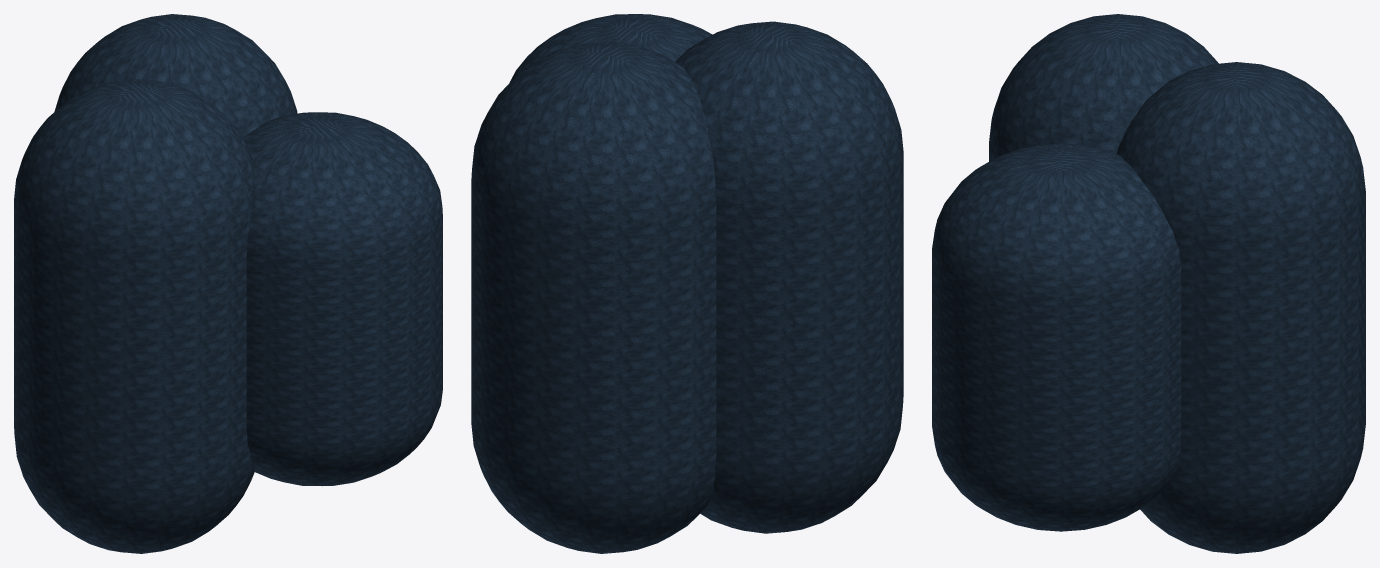
3 views of the same model, side by side, from view 1: azimuth 30°, elevation 25°; view 2: azimuth 150°, elevation 25°; view 3: azimuth 270°, elevation 25° (orthographic). The views are drawn at different scales.
Parts seen in each view (by area): view 1: NPC2 (2), NPC2 (1), object; view 2: object, NPC2 (2), NPC2 (1); view 3: object, NPC2 (1), NPC2 (2).
Boxes of the visible parts, x1,y1,x2,y2 form: NPC2 (2): (14, 79, 254, 553); NPC2 (1): (243, 112, 442, 486); object: (54, 14, 297, 137); object: (471, 41, 716, 553); NPC2 (2): (675, 21, 903, 533); NPC2 (1): (509, 14, 712, 82); object: (1117, 62, 1365, 553); NPC2 (1): (932, 143, 1181, 531); NPC2 (2): (989, 14, 1218, 161).
Bounding box in the file's own units: 1.71 × 2 × 1.68.
1 material, 1 textured.
